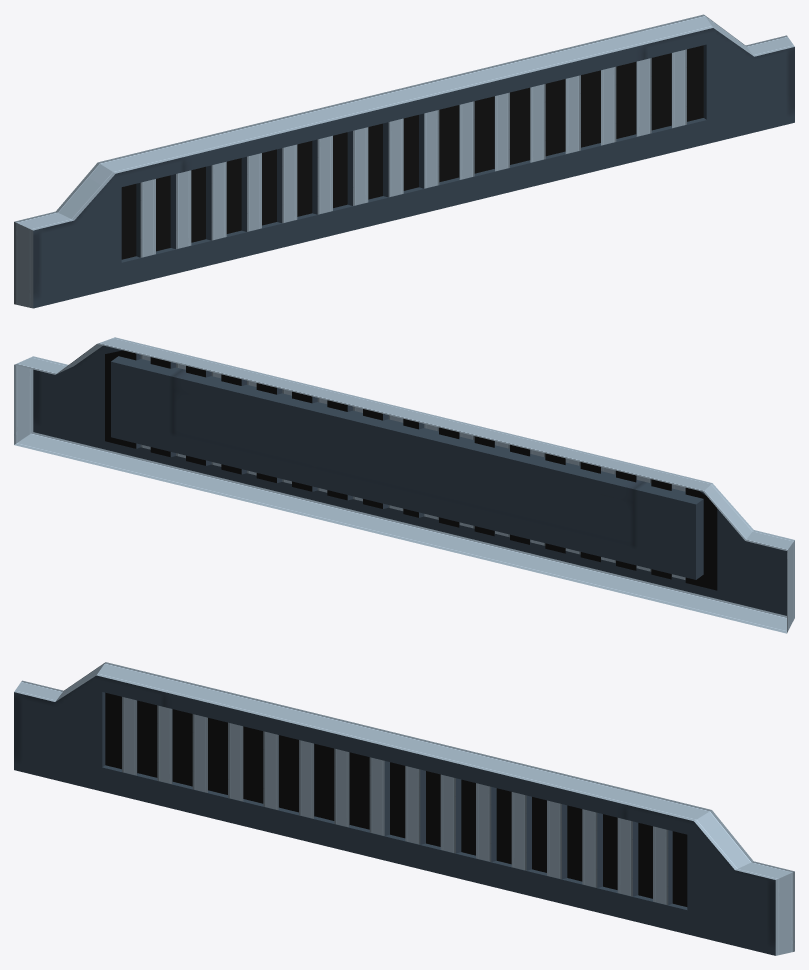
The model's file is FoundryVent.glb.
The picture shows the model from 3 angles, top to bottom: view 1: azimuth 30°, elevation 25°; view 2: azimuth 150°, elevation 25°; view 3: azimuth 330°, elevation 25°; orthographic projection.
Visible parts, largest first — view 1: RF_FoundryVent_01_DarkMetal, RF_FoundryVent_02_SecondaryMetal, RF_FoundryVent_00_PanelPlastic; view 2: RF_FoundryVent_01_DarkMetal, RF_FoundryVent_02_SecondaryMetal, RF_FoundryVent_00_PanelPlastic; view 3: RF_FoundryVent_01_DarkMetal, RF_FoundryVent_02_SecondaryMetal, RF_FoundryVent_00_PanelPlastic.
Part boxes in pixels (x1=…): RF_FoundryVent_01_DarkMetal: x1=33, y1=28, x2=794, y2=308; RF_FoundryVent_02_SecondaryMetal: x1=14, y1=14, x2=794, y2=308; RF_FoundryVent_00_PanelPlastic: x1=121, y1=45, x2=703, y2=259; RF_FoundryVent_01_DarkMetal: x1=33, y1=345, x2=786, y2=615; RF_FoundryVent_02_SecondaryMetal: x1=14, y1=337, x2=794, y2=633; RF_FoundryVent_00_PanelPlastic: x1=105, y1=350, x2=717, y2=590; RF_FoundryVent_01_DarkMetal: x1=14, y1=675, x2=775, y2=955; RF_FoundryVent_02_SecondaryMetal: x1=14, y1=662, x2=794, y2=955; RF_FoundryVent_00_PanelPlastic: x1=105, y1=692, x2=687, y2=906.
Bounding box in the file's own units: 3.2 × 0.4804 × 0.0983.
3 materials, 2 textured.
